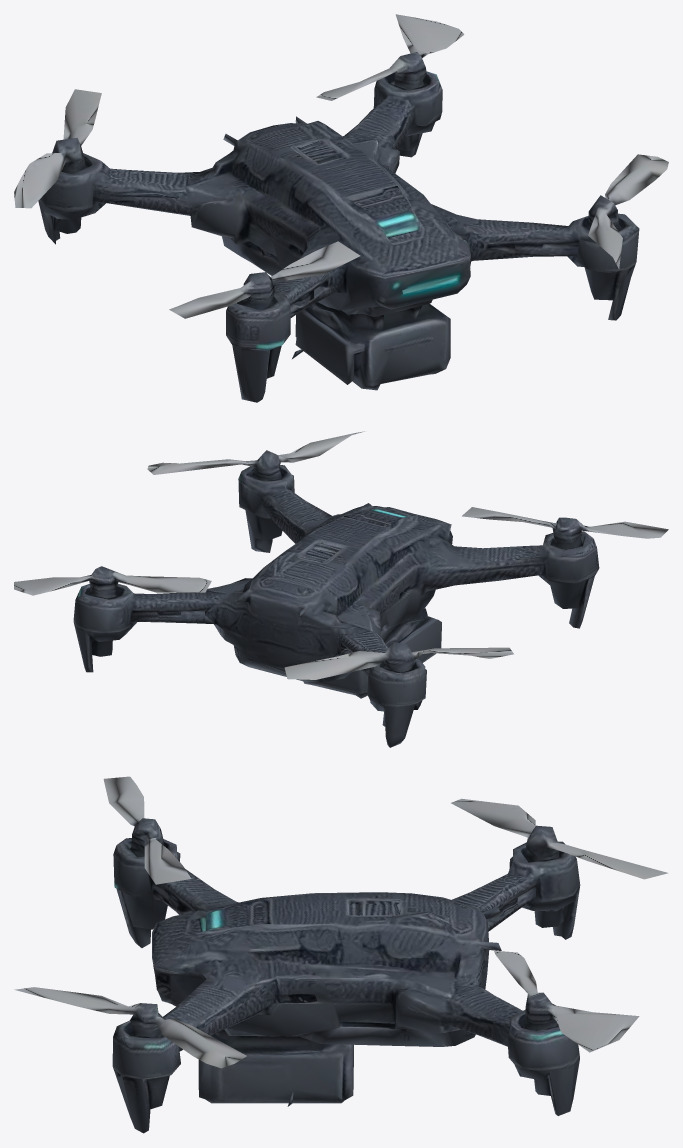
The picture shows the model from 3 angles, top to bottom: view 1: azimuth 30°, elevation 25°; view 2: azimuth 150°, elevation 25°; view 3: azimuth 270°, elevation 25°; orthographic projection. The views are drawn at different scales.
Parts seen in each view (by area): view 1: tripo_node_7580ff57-da90-469d-8e54-3abbf6f57654; view 2: tripo_node_7580ff57-da90-469d-8e54-3abbf6f57654; view 3: tripo_node_7580ff57-da90-469d-8e54-3abbf6f57654.
Part boxes in pixels (box(x1,y1,x2,y2)): tripo_node_7580ff57-da90-469d-8e54-3abbf6f57654: box(14, 14, 668, 402); tripo_node_7580ff57-da90-469d-8e54-3abbf6f57654: box(14, 431, 668, 747); tripo_node_7580ff57-da90-469d-8e54-3abbf6f57654: box(14, 776, 668, 1133).
Size of the model in its own units: 0.8899 by 0.2783 by 0.9.
1 material, 1 textured.
